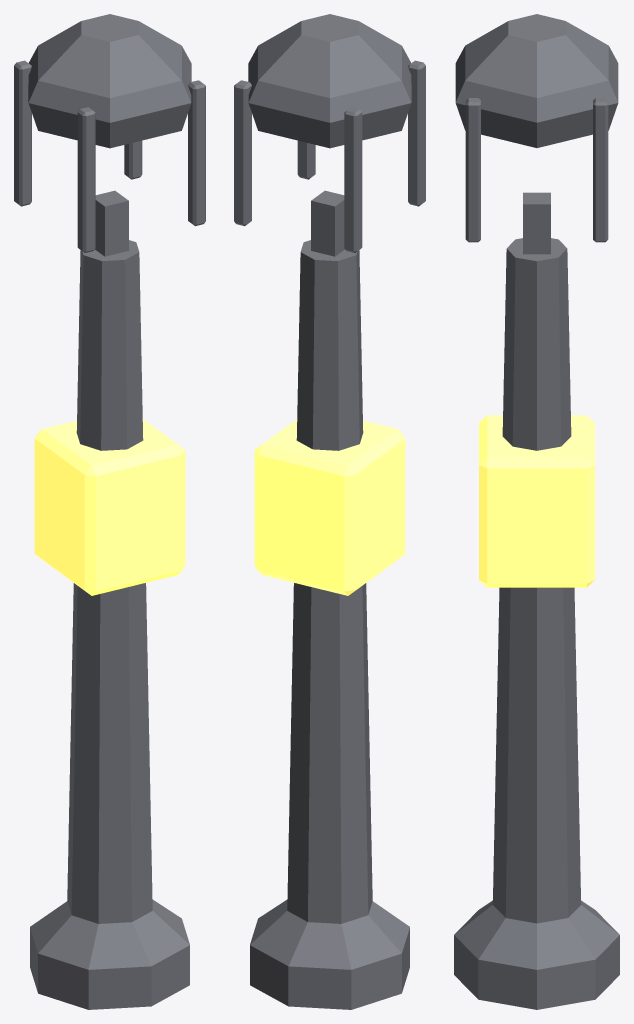
Rendered from town_lamp_post.glb.
3 views of the same model, side by side, from view 1: azimuth 30°, elevation 25°; view 2: azimuth 150°, elevation 25°; view 3: azimuth 270°, elevation 25° (orthographic).
Visible parts, largest first — view 1: world; view 2: world; view 3: world.
Part boxes in pixels (left/top/right/bottom): world: left=14, top=14, right=205, bottom=1009; world: left=234, top=14, right=425, bottom=1009; world: left=454, top=14, right=619, bottom=1009.
Size of the model in its own units: 0.3599 by 2 by 0.3174.
